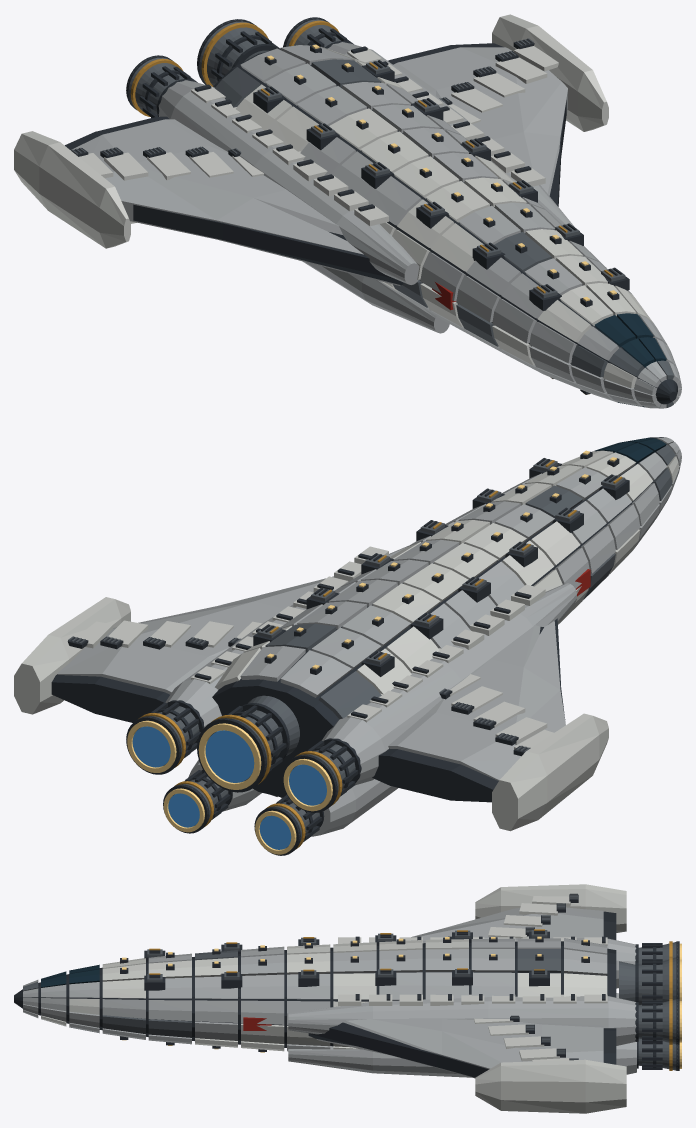
3 views of the same model, one above another, from view 1: azimuth 30°, elevation 25°; view 2: azimuth 150°, elevation 25°; view 3: azimuth 270°, elevation 25° (orthographic). The views are drawn at different scales.
Parts seen in each view (by area): view 1: armor, light, dark, steel, glass, gold, lamp; view 2: armor, light, dark, steel, blue, lamp, gold, glass; view 3: armor, light, dark, steel, gold, glass, lamp.
Part boxes in pixels (left/top/right/bottom): armor: left=70, top=42, right=681, bottom=408; light: left=14, top=14, right=670, bottom=388; dark: left=65, top=17, right=677, bottom=404; steel: left=71, top=18, right=673, bottom=407; glass: left=595, top=313, right=666, bottom=407; gold: left=130, top=20, right=613, bottom=293; lamp: left=267, top=44, right=616, bottom=394; armor: left=57, top=437, right=681, bottom=836; light: left=14, top=450, right=678, bottom=831; dark: left=51, top=451, right=662, bottom=855; steel: left=68, top=437, right=675, bottom=848; blue: left=132, top=726, right=326, bottom=849; lamp: left=127, top=450, right=616, bottom=854; gold: left=138, top=460, right=622, bottom=849; glass: left=595, top=437, right=666, bottom=463; armor: left=23, top=907, right=636, bottom=1078; light: left=41, top=884, right=626, bottom=1113; dark: left=14, top=894, right=679, bottom=1077; steel: left=23, top=893, right=677, bottom=1070; gold: left=149, top=929, right=672, bottom=1070; glass: left=41, top=964, right=99, bottom=987; lamp: left=122, top=936, right=681, bottom=1068.
Size of the model in its own units: 17.22 by 4.82 by 26.06.
